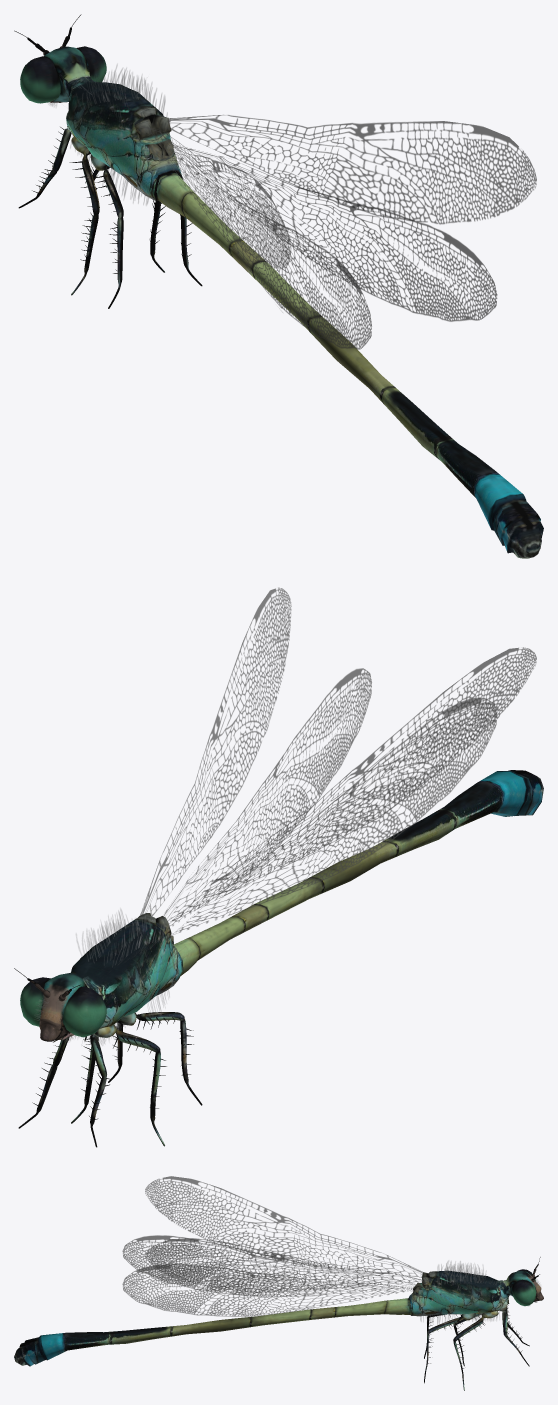
The model's file is dragonfly.glb.
3 views of the same model, one above another, from view 1: azimuth 30°, elevation 25°; view 2: azimuth 150°, elevation 25°; view 3: azimuth 270°, elevation 25° (orthographic). The views are drawn at different scales.
Visible parts, largest first — view 1: Plane.001_3, Cube_1, Plane.003_5, Sphere_2, Plane.004_6; view 2: Plane.001_3, Cube_1, Plane.003_5, Sphere_2, Plane.004_6; view 3: Plane.001_3, Cube_1, Plane.003_5, Plane.004_6, Sphere_2.
Part boxes in pixels (box(x1,y1,x2,y2)): Plane.001_3: box(141, 115, 536, 349); Cube_1: box(44, 46, 543, 558); Plane.003_5: box(18, 112, 202, 308); Sphere_2: box(20, 46, 106, 103); Plane.004_6: box(49, 65, 167, 205); Plane.001_3: box(140, 587, 536, 935); Cube_1: box(39, 770, 543, 1041); Plane.003_5: box(18, 1012, 202, 1147); Sphere_2: box(20, 977, 106, 1037); Plane.004_6: box(36, 908, 181, 1045); Plane.001_3: box(122, 1176, 424, 1318); Cube_1: box(14, 1270, 543, 1366); Plane.003_5: box(424, 1301, 536, 1390); Plane.004_6: box(420, 1260, 540, 1324); Sphere_2: box(512, 1269, 536, 1306).
Bounding box in the file's own units: 2.34 × 2.84 × 8.
Materials: 3 (3 with a texture image).
